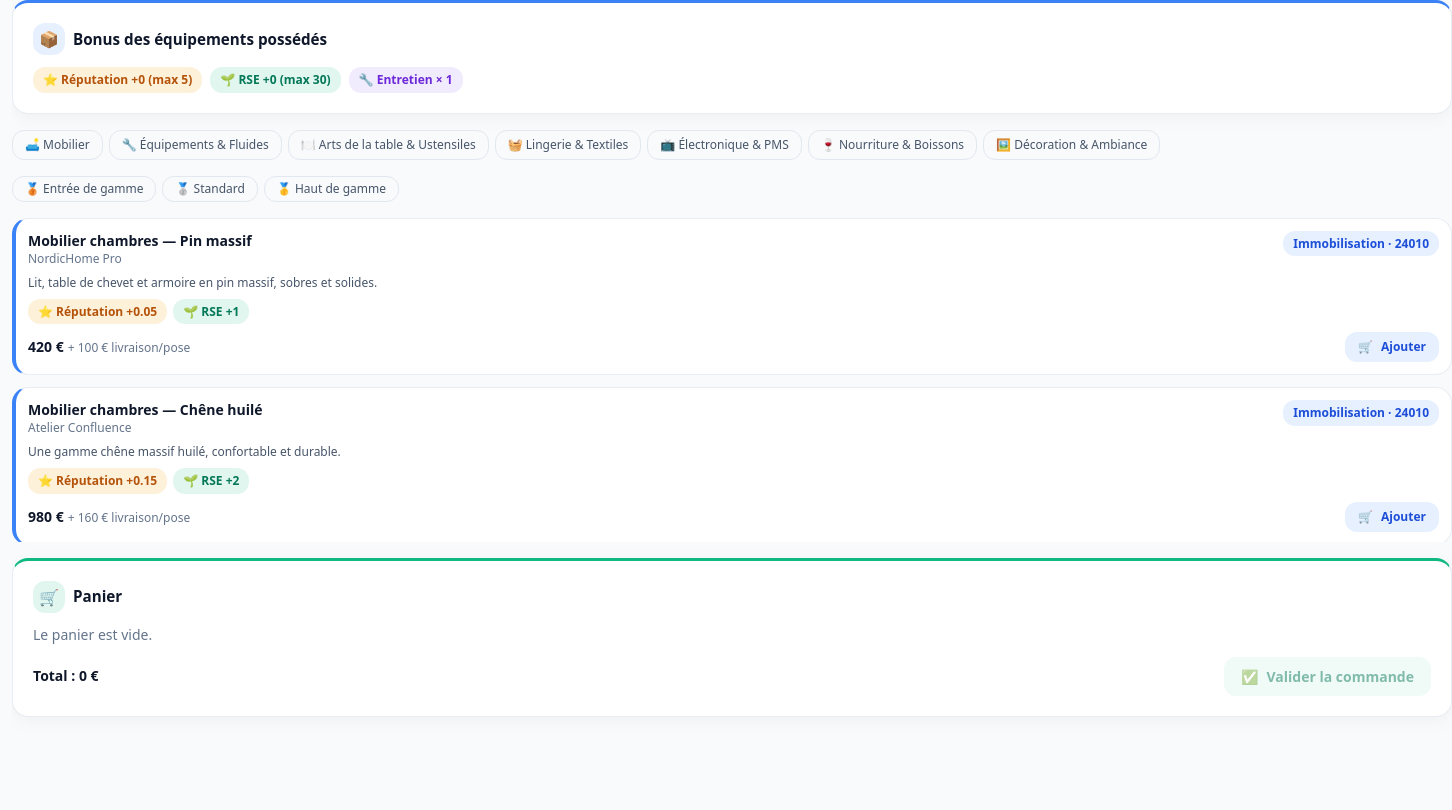
Test: SuppliersPanel / browsing the catalogue › narrows further by price tier
Click the button with test id "suppliers-tier-luxury". click: (332, 189)
box: [264,176,399,202]
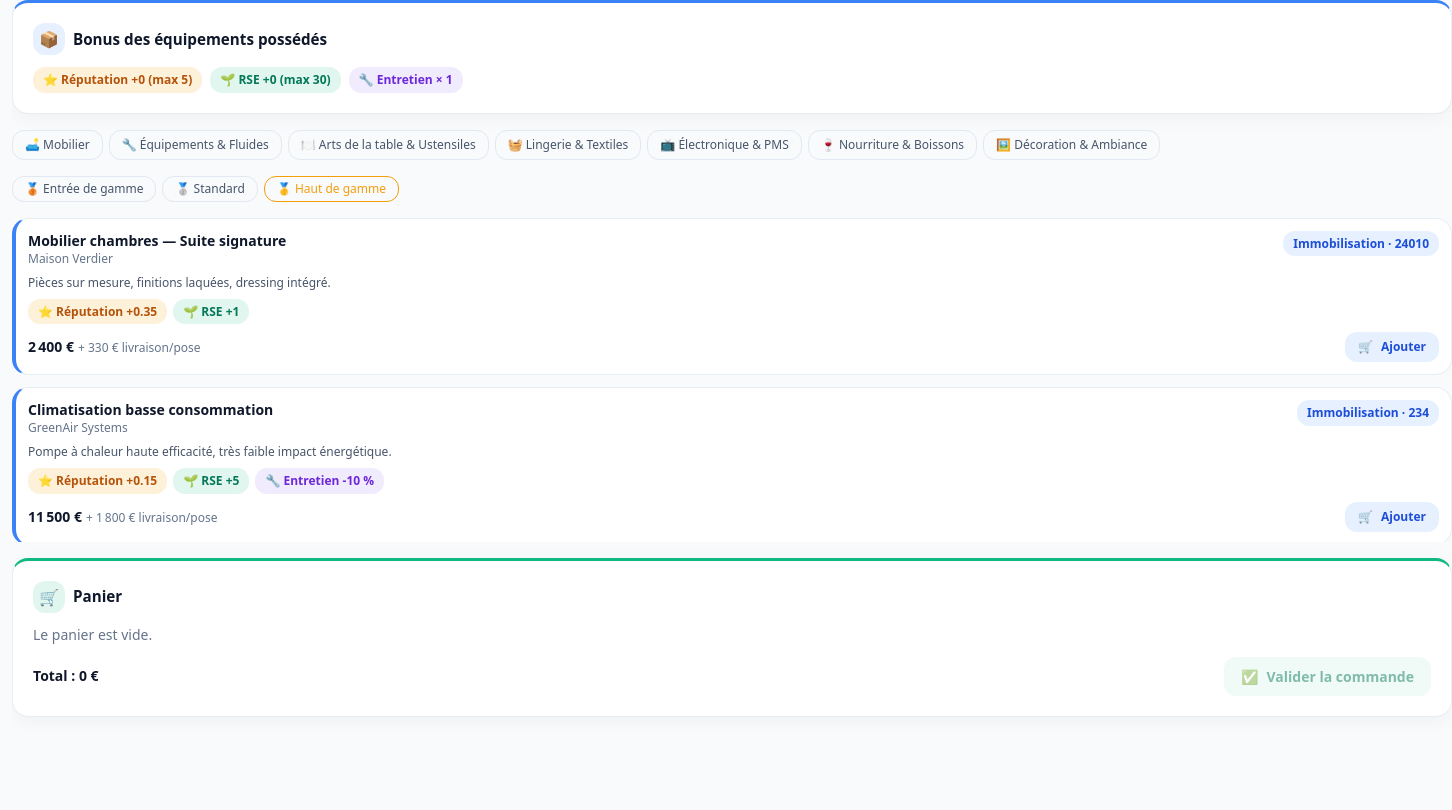
Expected: the list item with test id "supplier-item-furniture-rooms-entry" is gone
Expected: the list item with test id "supplier-item-furniture-rooms-luxury" is shown, [12,218,1451,375]
